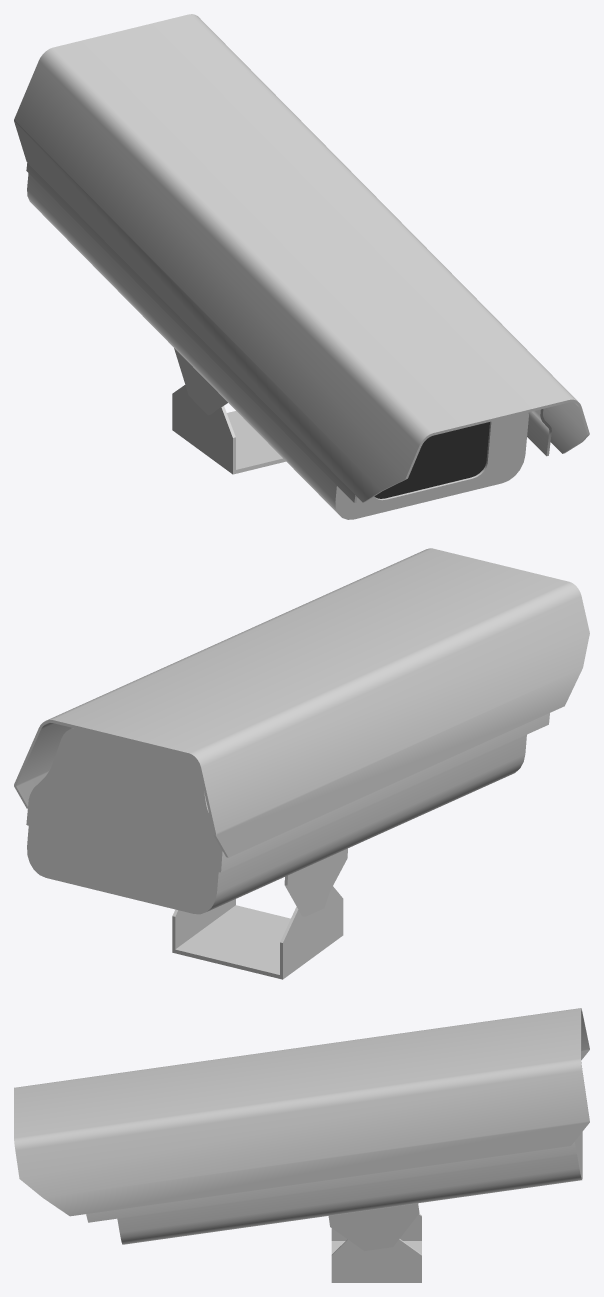
Rendered from sxj_01_01.glb.
3 renders of one model, top to bottom at view 1: azimuth 30°, elevation 25°; view 2: azimuth 150°, elevation 25°; view 3: azimuth 270°, elevation 25°, orthographic. The views are drawn at different scales.
Parts seen in each view (by area): view 1: 卡口, 卡口.001; view 2: 卡口, 卡口.001; view 3: 卡口, 卡口.001.
Boxes of the visible parts, x1,y1,x2,y2 form: 卡口: (14, 14, 589, 519); 卡口.001: (172, 348, 285, 474); 卡口: (14, 548, 589, 914); 卡口.001: (172, 848, 347, 979); 卡口: (14, 1008, 589, 1244); 卡口.001: (328, 1203, 421, 1282).
Bounding box in the file's own units: 0.153 × 0.2228 × 0.5074.
2 materials, 2 textured.
